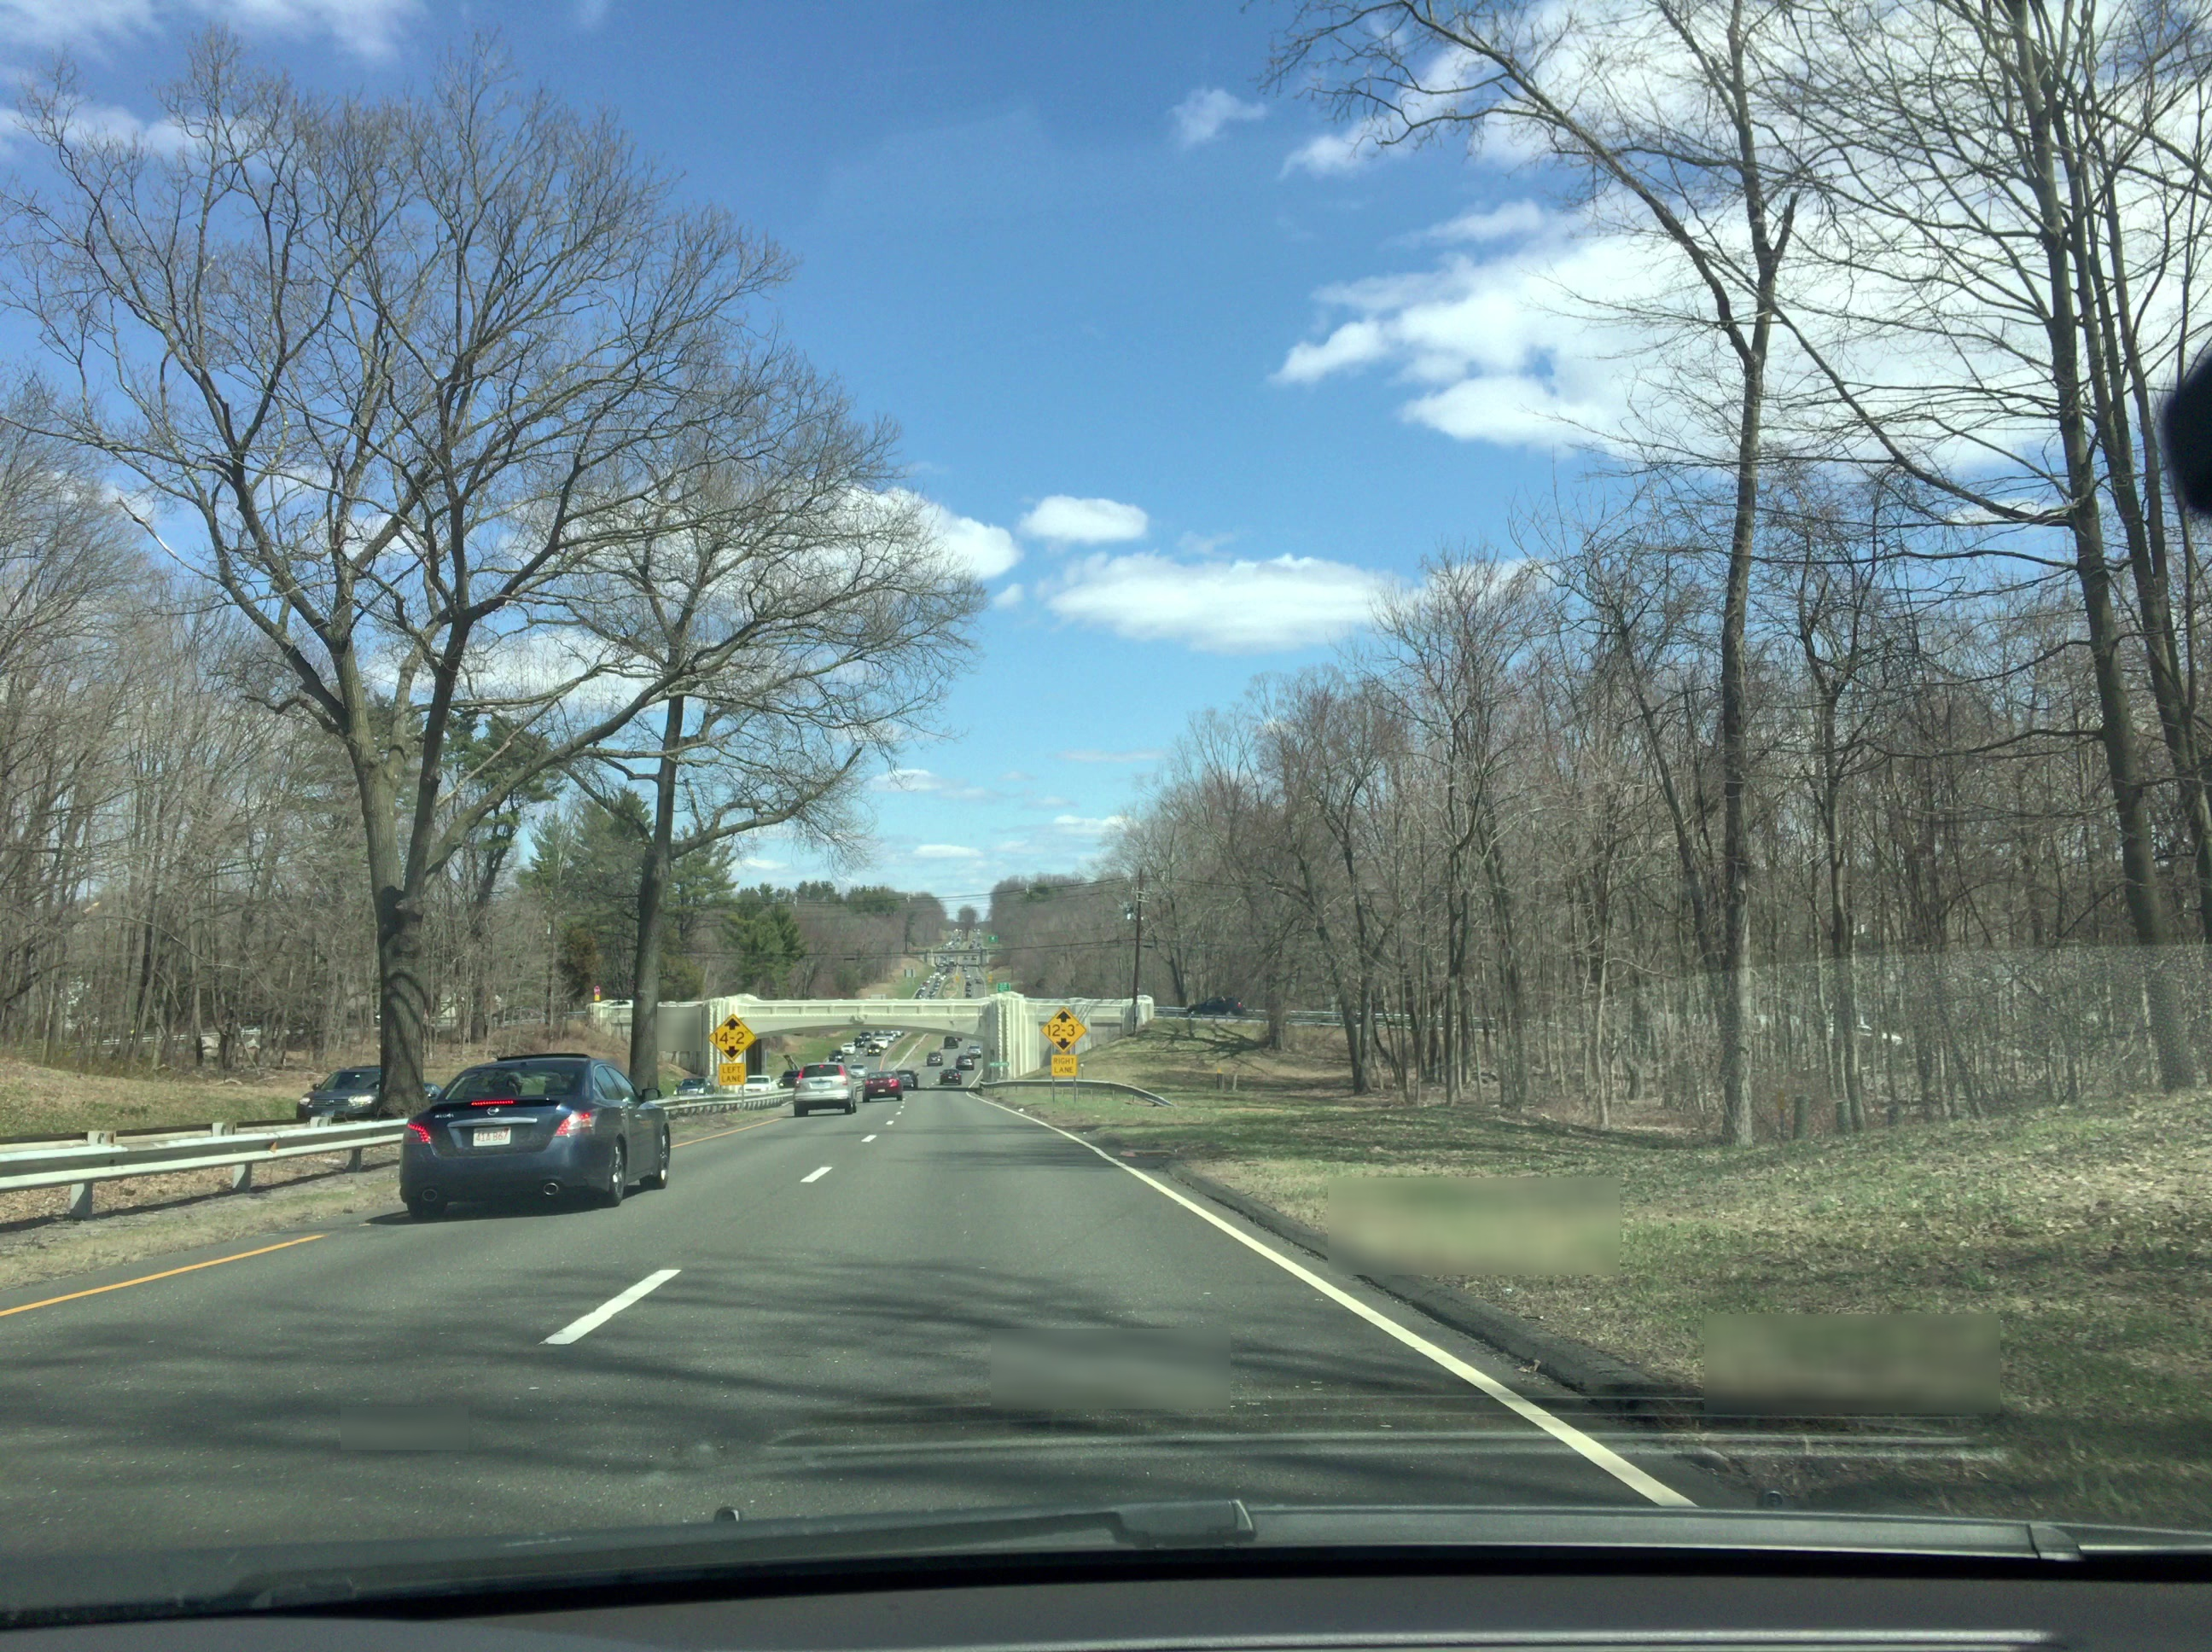low-clearance-sign: (708, 1013, 756, 1062), (1041, 1006, 1088, 1053)
